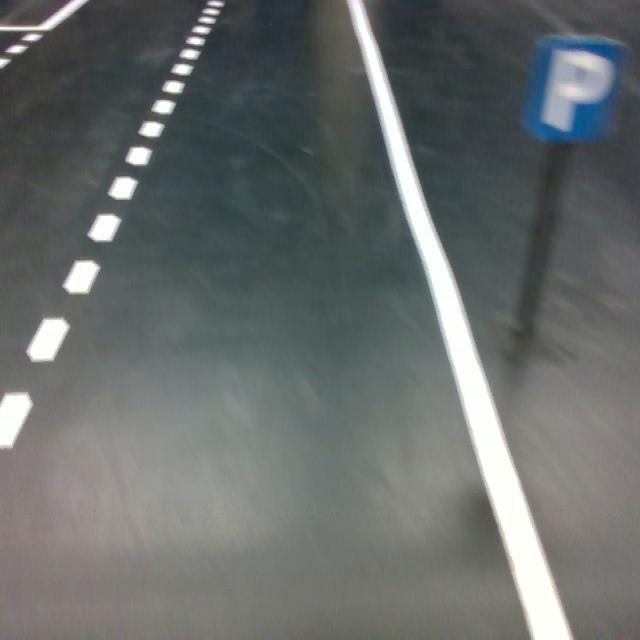parking-sign: (518, 33, 633, 146)
